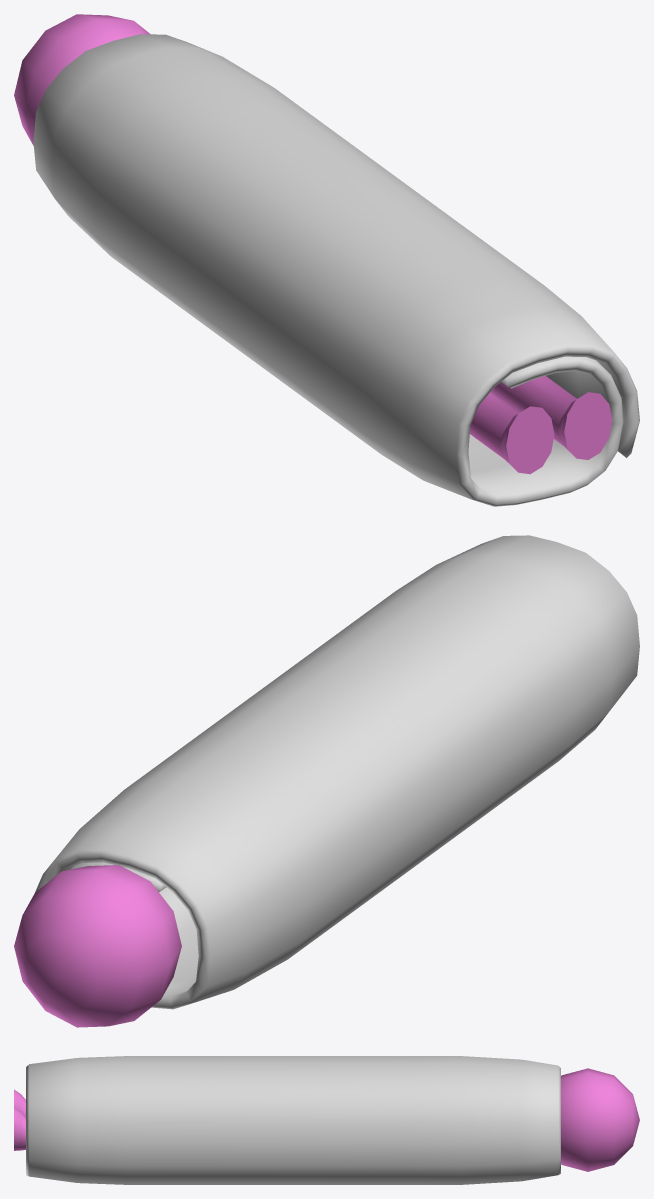
Rendered from huton_tset.FBX.
3 renders of one model, top to bottom at view 1: azimuth 30°, elevation 25°; view 2: azimuth 150°, elevation 25°; view 3: azimuth 270°, elevation 25°, orthographic. The views are drawn at different scales.
Visible parts, largest first — view 1: huton1; view 2: huton1; view 3: huton1.
Part boxes in pixels (x1=…): huton1: x1=14, y1=14, x2=639, y2=506; huton1: x1=14, y1=535, x2=639, y2=1027; huton1: x1=14, y1=1056, x2=639, y2=1184.
Size of the model in its own units: 43.53 by 34 by 181.
